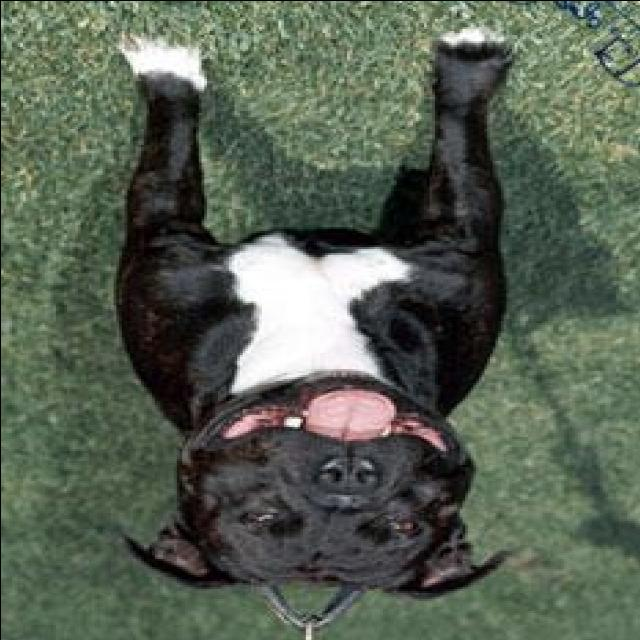staffordshire_bullterrier: (112, 28, 512, 604)
